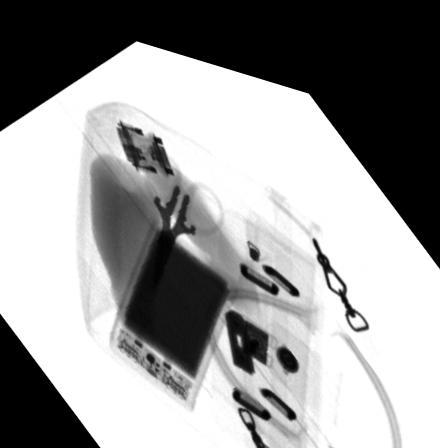Powerbank: (105, 204, 242, 401)
Scissors: (142, 139, 230, 283)
